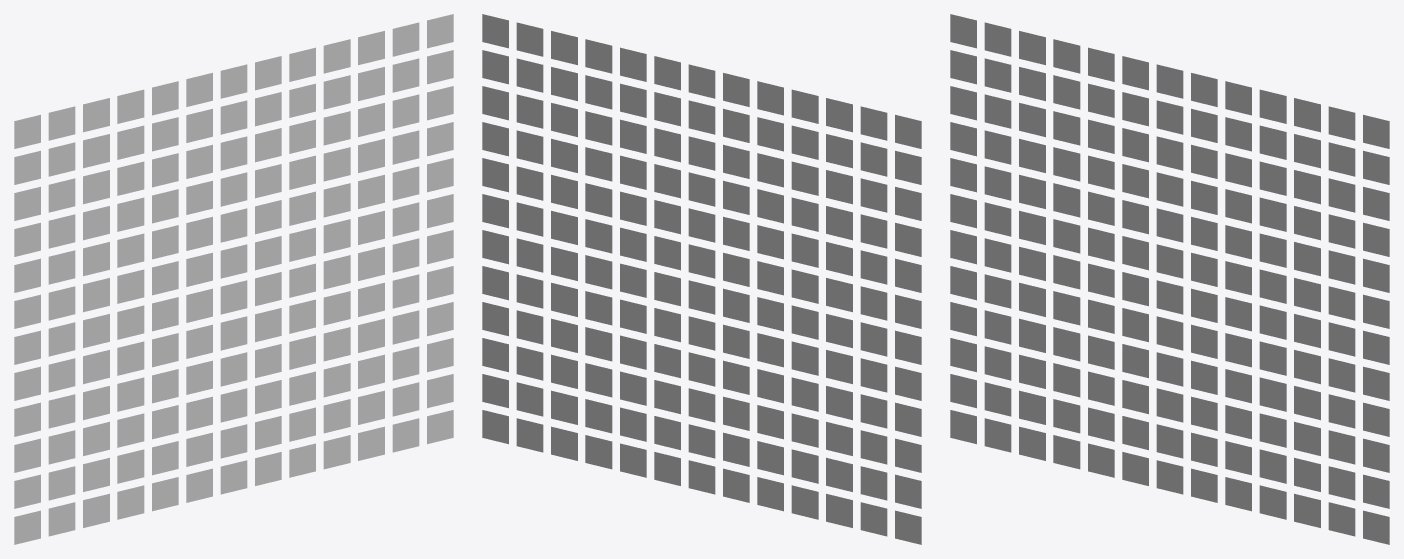
The model's file is byzantinelarge.gltf.
3 renders of one model, left to right at view 1: azimuth 30°, elevation 25°; view 2: azimuth 150°, elevation 25°; view 3: azimuth 330°, elevation 25°, orthographic.
Parts seen in each view (by area): view 1: largebyza; view 2: largebyza; view 3: largebyza.
Boxes of the visible parts, box(x1,y1,x2,y2) form: largebyza: box(14, 14, 453, 544); largebyza: box(482, 14, 921, 544); largebyza: box(950, 14, 1389, 544).
Bounding box in the file's own units: 0.1826 × 0.1683 × 0.
156 materials, 156 textured.
